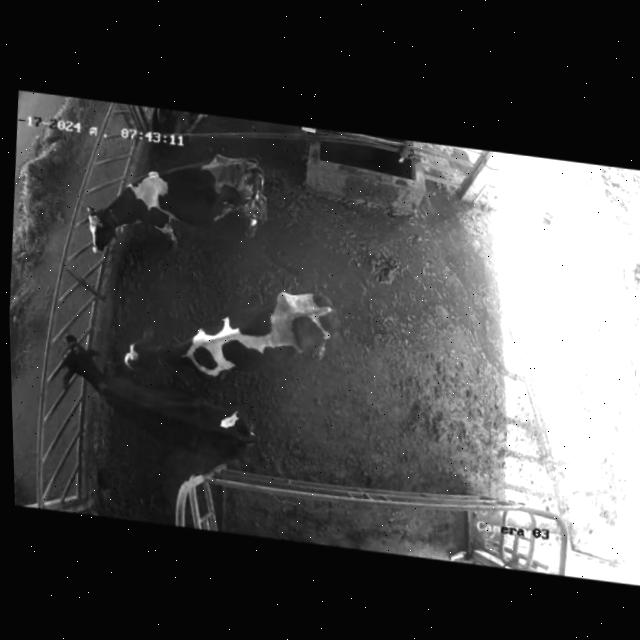stand: (78, 127, 300, 288), (101, 264, 360, 400), (54, 328, 269, 461)
